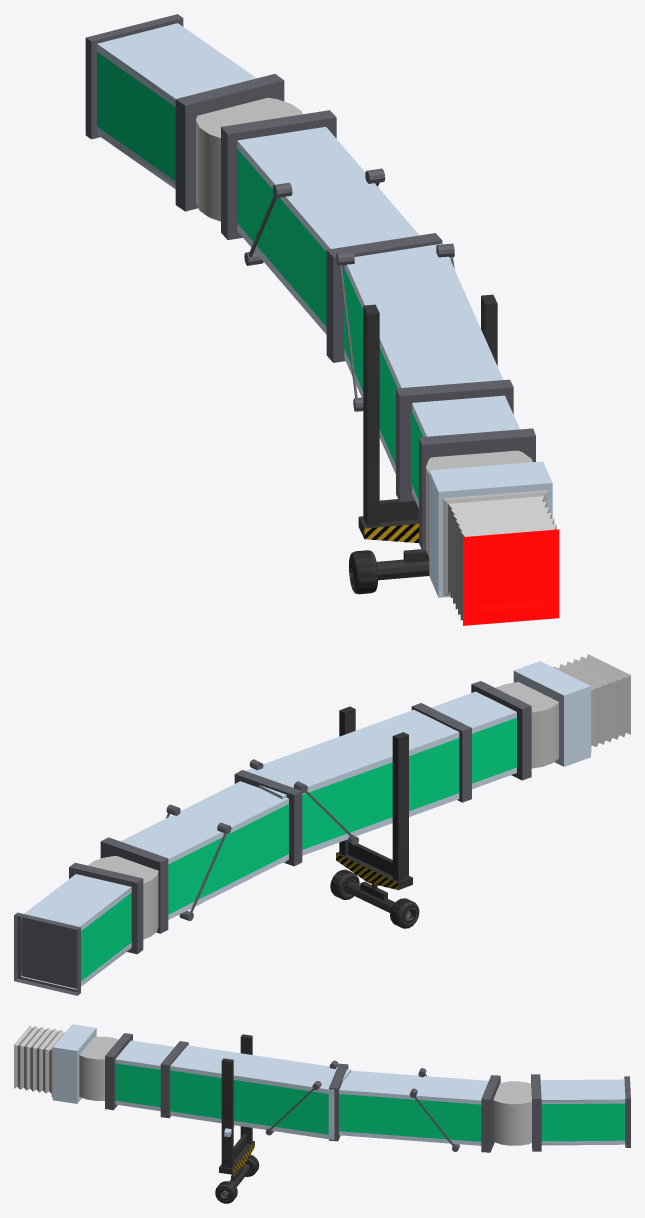
File: terminal_main_new updated.fbx
The picture shows the model from 3 angles, top to bottom: view 1: azimuth 30°, elevation 25°; view 2: azimuth 150°, elevation 25°; view 3: azimuth 270°, elevation 25°; orthographic projection. The views are drawn at different scales.
Visible parts, largest first — view 1: air_hand_01_a, polySurface19, Object002scsc, polySurface12, polySurface1, polySurface24, polySurface28, polySurface27, polySurface26, polySurface10; view 2: polySurface12, polySurface19, air_hand_01_a, Object002scsc, polySurface1, polySurface24, polySurface10, polySurface26, polySurface27, polySurface28; view 3: polySurface12, polySurface19, air_hand_01_a, Object002scsc, polySurface1, polySurface24, polySurface10, polySurface28, polySurface26, polySurface27.
Boxes of the visible parts, box(x1,y1,x2,y2) form: air_hand_01_a: box(85, 14, 302, 221); polySurface19: box(221, 110, 419, 334); Object002scsc: box(429, 461, 559, 625); polySurface12: box(336, 242, 503, 473); polySurface1: box(410, 395, 535, 550); polySurface24: box(358, 294, 497, 542); polySurface28: box(396, 379, 513, 501); polySurface27: box(326, 233, 442, 362); polySurface26: box(349, 549, 429, 594); polySurface10: box(426, 450, 532, 557); polySurface12: box(245, 709, 459, 863); polySurface19: box(100, 781, 288, 933); air_hand_01_a: box(14, 856, 158, 995); Object002scsc: box(513, 654, 630, 766); polySurface1: box(431, 681, 531, 789); polySurface24: box(336, 706, 412, 889); polySurface10: box(495, 682, 558, 768); polySurface26: box(330, 869, 419, 928); polySurface27: box(234, 770, 302, 866); polySurface28: box(411, 703, 471, 802); polySurface12: box(170, 1045, 351, 1139); polySurface19: box(224, 1068, 500, 1152); air_hand_01_a: box(493, 1074, 630, 1151); Object002scsc: box(14, 1024, 96, 1103); polySurface1: box(105, 1033, 174, 1111); polySurface24: box(219, 1034, 254, 1174); polySurface10: box(79, 1036, 118, 1100); polySurface28: box(160, 1041, 188, 1118); polySurface26: box(215, 1154, 259, 1203); polySurface27: box(329, 1063, 348, 1141).
Size of the model in its own units: 363 by 298 by 1185.
